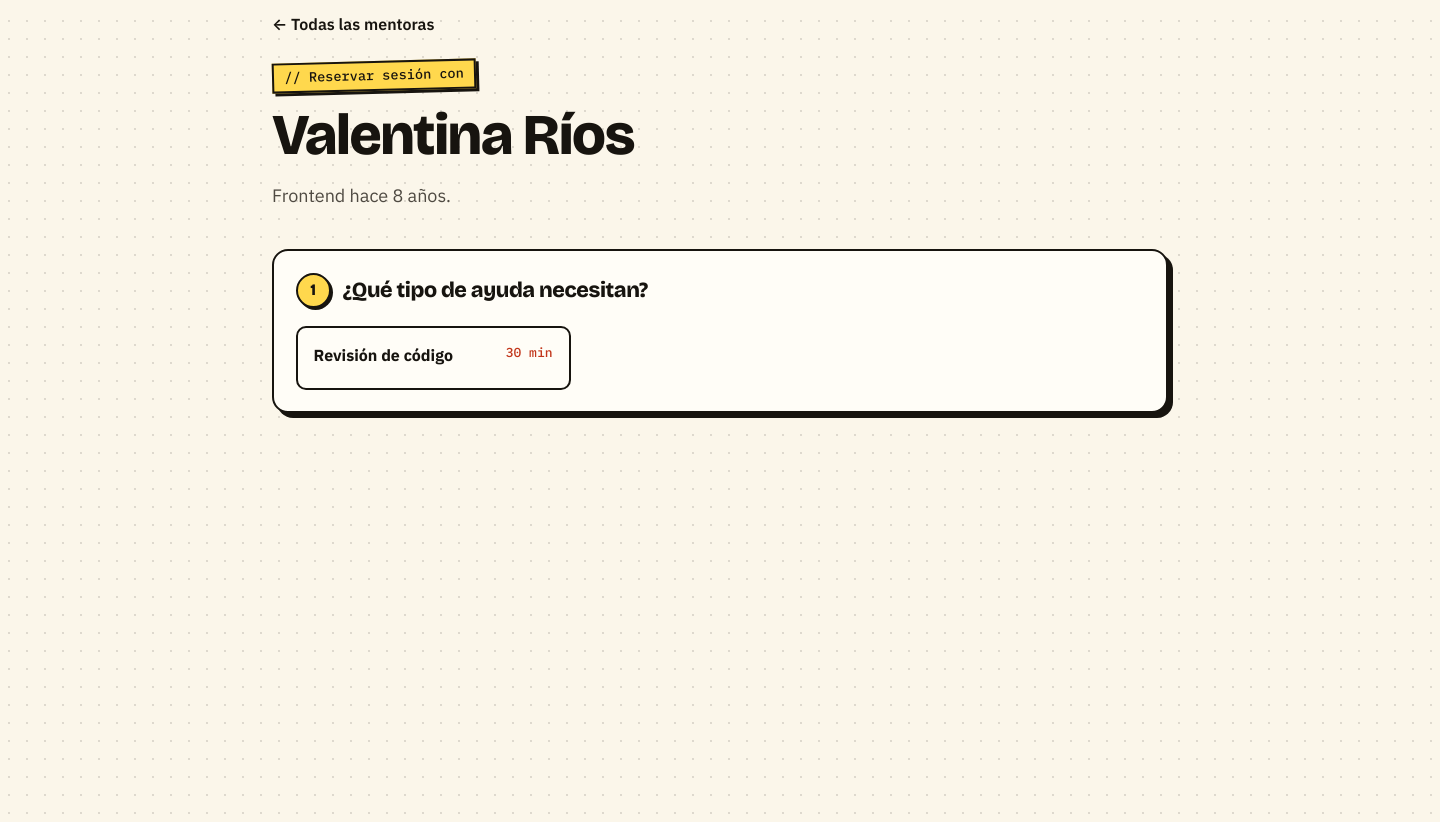
Test: ReservaPage › avisa cuando la mentora no tiene lugar en los próximos 14 días
Step 1. Click the radio button labelled "Revisión de código 30 min" → (433, 358), box [296,326,570,390]
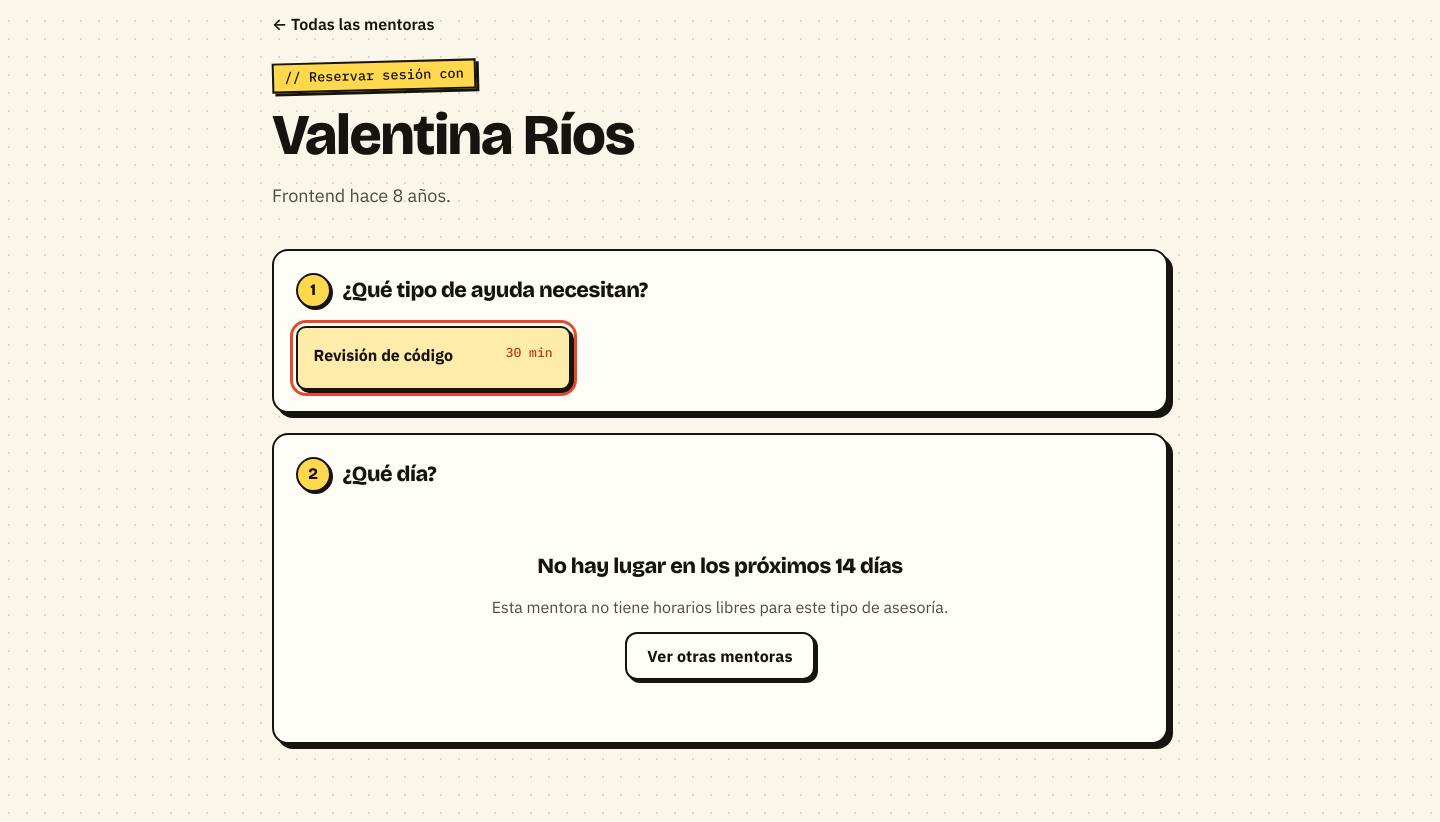
Check: the text "No hay lugar en los próximos 14 días" is shown, box [537,550,903,583]
